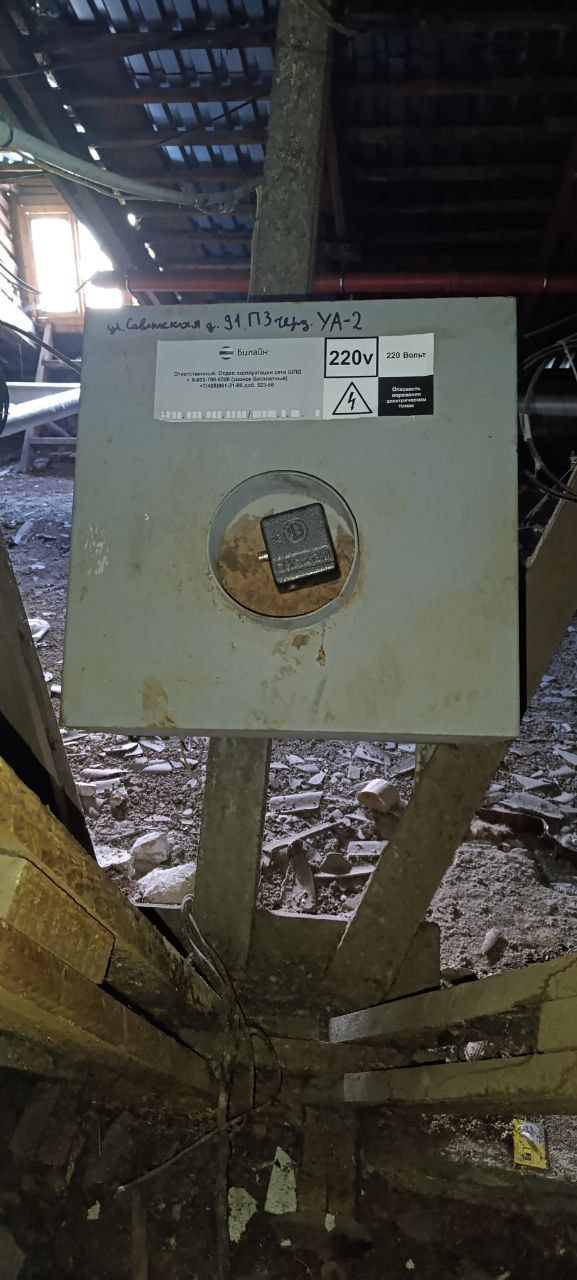shta-9: (44, 290, 530, 745)
